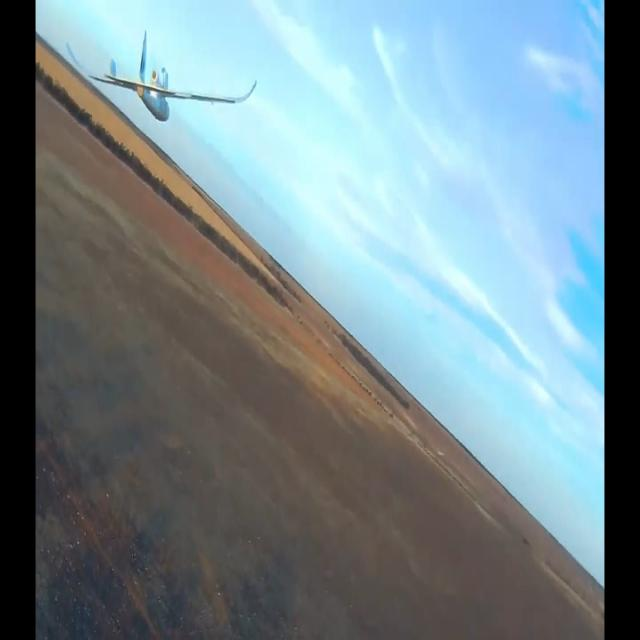iha: (66, 0, 258, 21)
